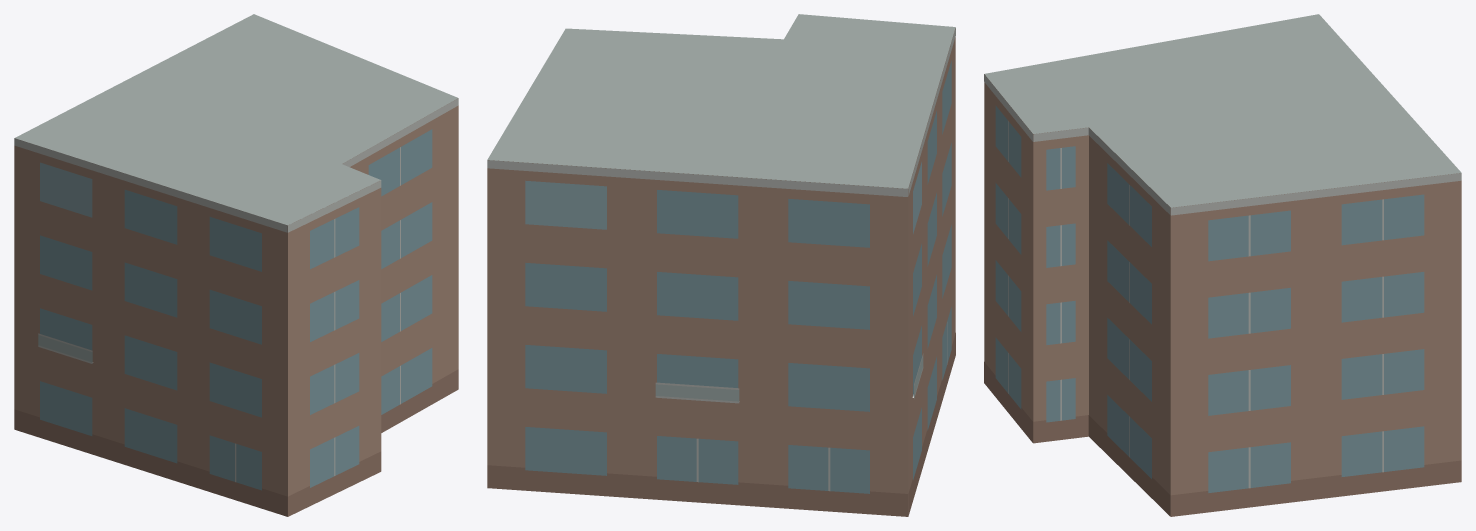
File: survey-upis-32847303.glb
The picture shows the model from 3 angles, left to right: view 1: azimuth 30°, elevation 25°; view 2: azimuth 150°, elevation 25°; view 3: azimuth 270°, elevation 25°; orthographic projection. The views are drawn at different scales.
Visible parts, largest first — view 1: survey-upis-32847303.tmp; view 2: survey-upis-32847303.tmp; view 3: survey-upis-32847303.tmp.
Boxes of the visible parts, bbox=[...] form: survey-upis-32847303.tmp: bbox=[14, 14, 458, 516]; survey-upis-32847303.tmp: bbox=[487, 14, 955, 516]; survey-upis-32847303.tmp: bbox=[984, 14, 1461, 516].
Bounding box in the file's own units: 12.84 × 9.55 × 13.38.
